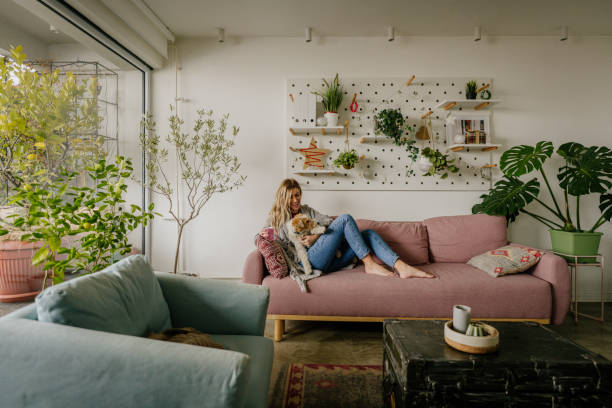chair: (0, 253, 276, 402)
large plant: (3, 45, 143, 269), (137, 103, 240, 272), (482, 142, 612, 261)
small plant: (320, 76, 345, 126), (371, 104, 406, 137), (334, 151, 361, 173)
sofa: (243, 211, 574, 341)
table: (377, 315, 612, 407)
